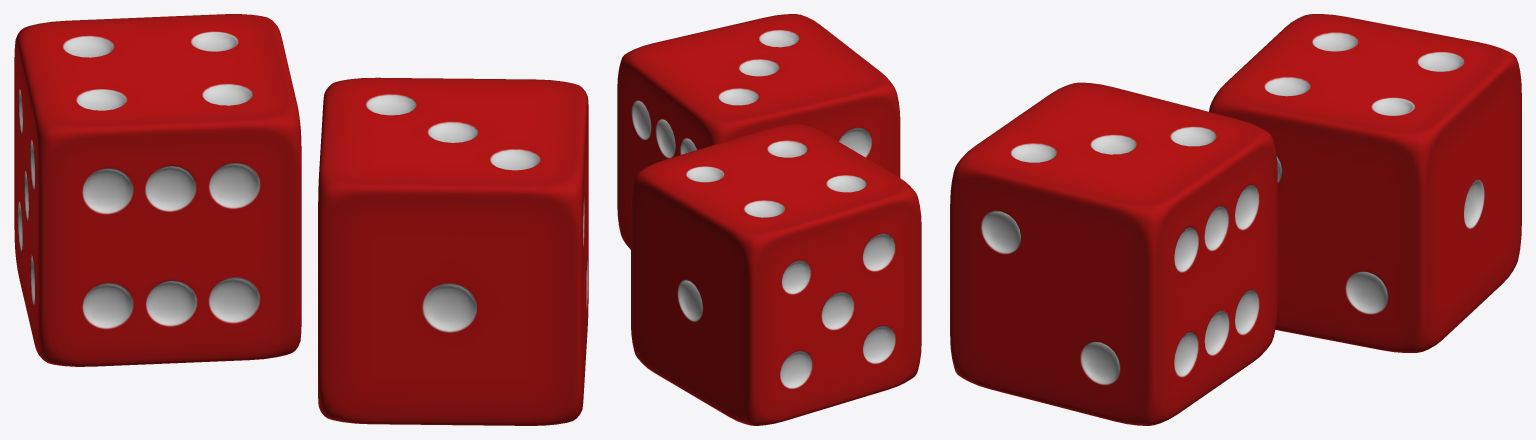
File: Dice_V01.glb
The picture shows the model from 3 angles, left to right: view 1: azimuth 30°, elevation 25°; view 2: azimuth 150°, elevation 25°; view 3: azimuth 270°, elevation 25°; orthographic projection. The views are drawn at different scales.
Visible parts, largest first — view 1: Red_Transparent_Dice_01.001; view 2: Red_Transparent_Dice_01.001; view 3: Red_Transparent_Dice_01.001.
Part boxes in pixels (bbox=[...]): Red_Transparent_Dice_01.001: bbox=[14, 14, 588, 425]; Red_Transparent_Dice_01.001: bbox=[617, 14, 921, 425]; Red_Transparent_Dice_01.001: bbox=[950, 14, 1521, 425].
Size of the model in its own units: 4.94 by 2.44 by 5.77.
Materials: 1 (1 with a texture image).
